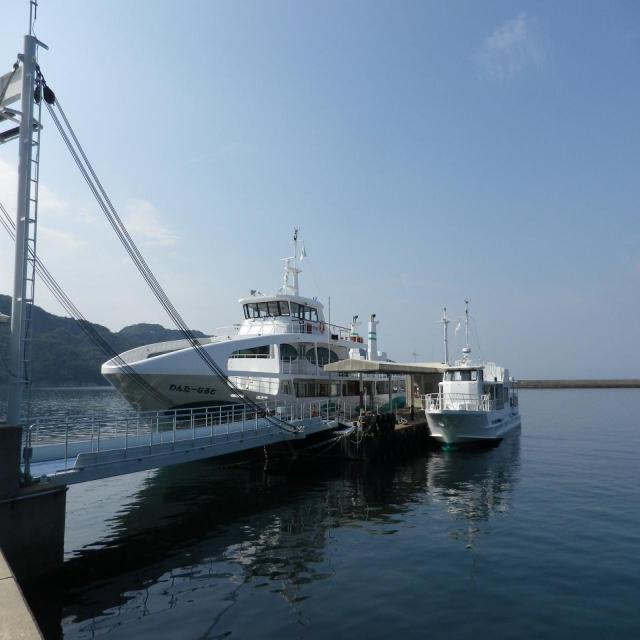houseboat: (92, 245, 407, 413), (425, 331, 525, 445)
